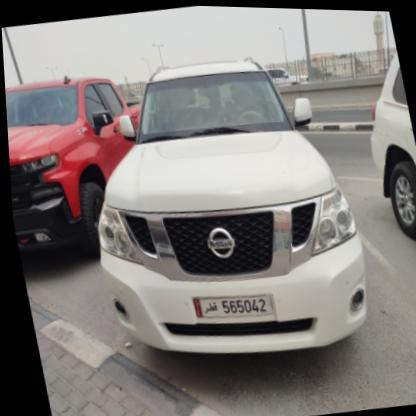np: (182, 280, 279, 334)
